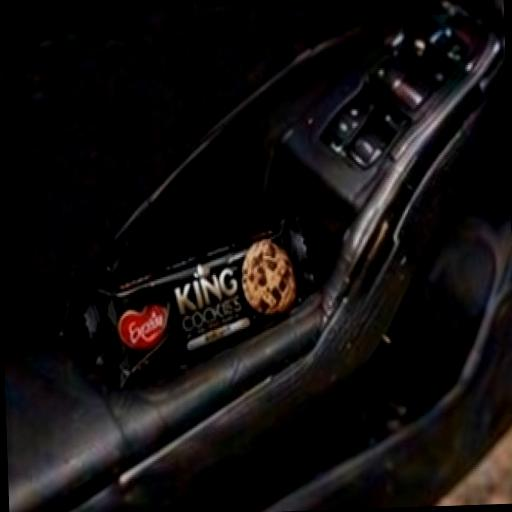king_cooking: (64, 188, 458, 430)
